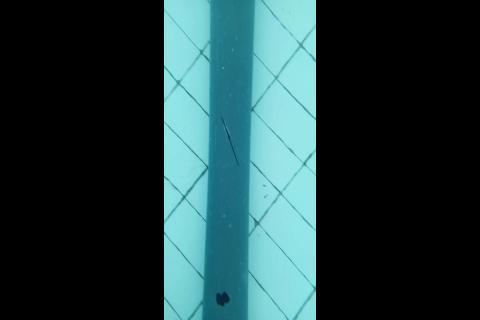kebocoran: (214, 290, 231, 308)
keretakan: (219, 113, 240, 166)
